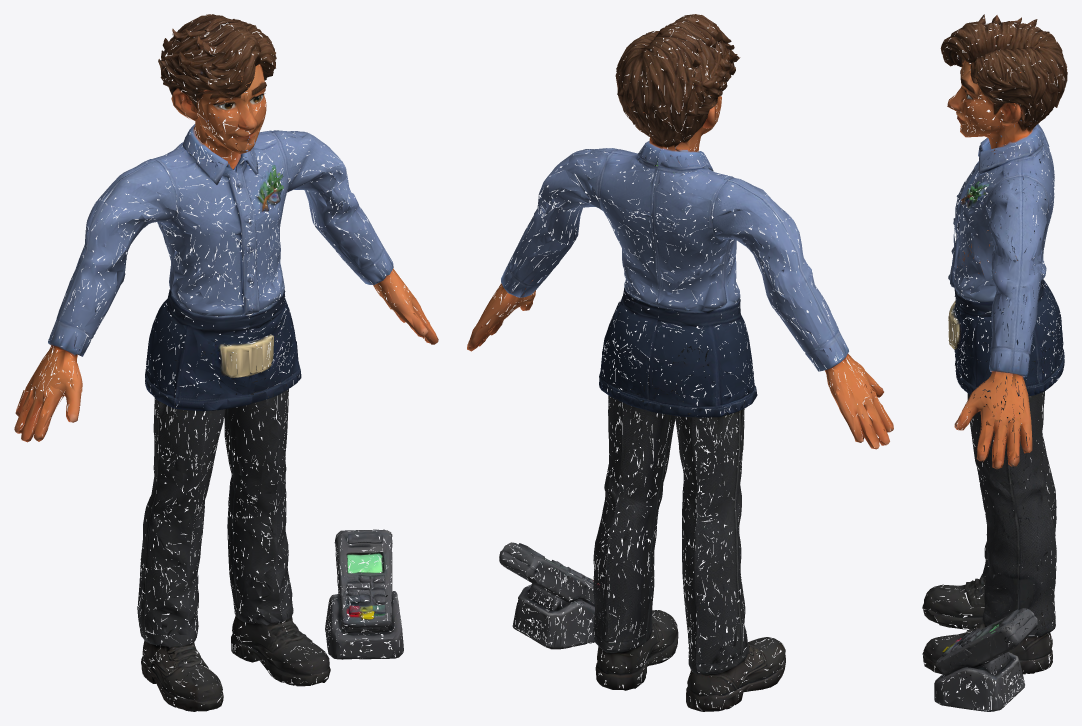
File: juniper-cashier.glb
The picture shows the model from 3 angles, left to right: view 1: azimuth 30°, elevation 25°; view 2: azimuth 150°, elevation 25°; view 3: azimuth 270°, elevation 25°; orthographic projection. The views are drawn at different scales.
Visible parts, largest first — view 1: tripo_node_eb403a9d-5666-4537-88a3-d82a769f5f72; view 2: tripo_node_eb403a9d-5666-4537-88a3-d82a769f5f72; view 3: tripo_node_eb403a9d-5666-4537-88a3-d82a769f5f72.
Part boxes in pixels (x1=…): tripo_node_eb403a9d-5666-4537-88a3-d82a769f5f72: x1=14, y1=14, x2=438, y2=711; tripo_node_eb403a9d-5666-4537-88a3-d82a769f5f72: x1=467, y1=14, x2=893, y2=711; tripo_node_eb403a9d-5666-4537-88a3-d82a769f5f72: x1=922, y1=14, x2=1067, y2=711.
Bounding box in the file's own units: 0.6505 × 0.9822 × 0.2078.
1 material, 1 textured.
